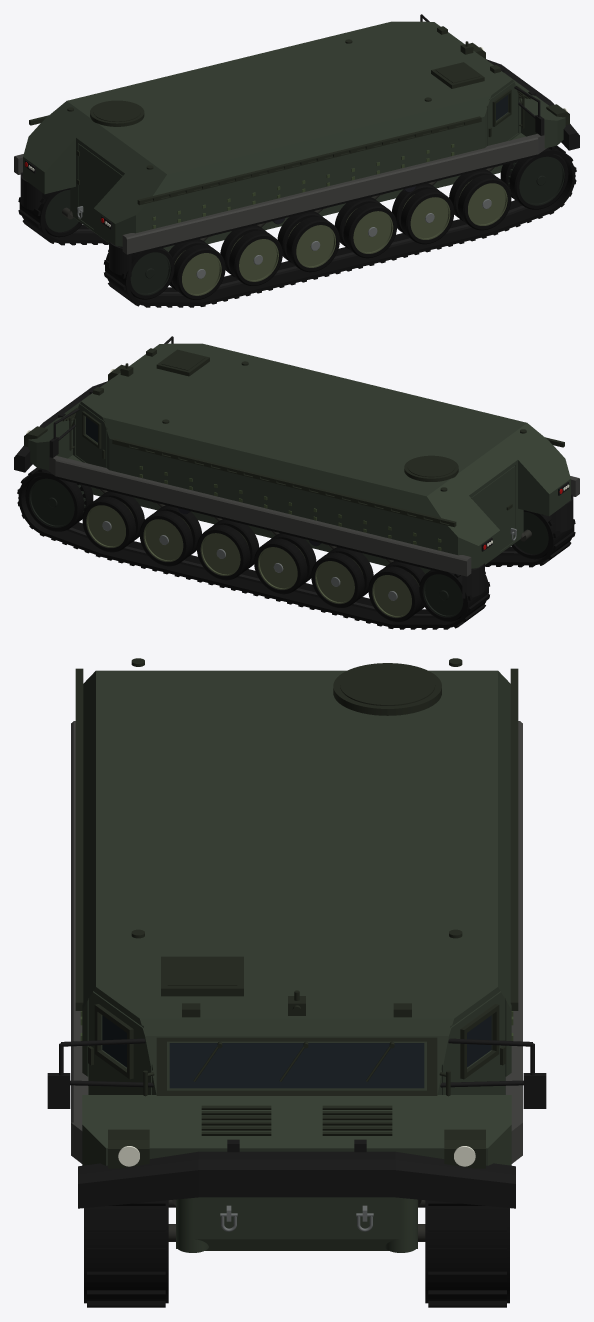
File: trackx.glb
3 views of the same model, one above another, from view 1: azimuth 30°, elevation 25°; view 2: azimuth 150°, elevation 25°; view 3: azimuth 270°, elevation 25° (orthographic). The views are drawn at different scales.
Visible parts, largest first — view 1: hull, tyres_R, guards, rims_R, track_R, fittings, sprocket_R, track_L, flaps, sprocket_L, bumper, track_guide_R (+3 smaller); view 2: hull, tyres_L, guards, rims_L, track_L, fittings, sprocket_L, track_R, flaps, sprocket_R, bumper, track_guide_L (+3 smaller); view 3: hull, fittings, bumper, glass, track_L, track_R, guards, mirrors, light_pods.
Boxes of the visible parts, left/top/right/bottom form: hull: left=23, top=21, right=565, bottom=251; tyres_R: left=129, top=154, right=568, bottom=299; guards: left=14, top=133, right=546, bottom=254; rims_R: left=174, top=180, right=507, bottom=295; track_R: left=104, top=145, right=576, bottom=307; fittings: left=29, top=26, right=531, bottom=213; sprocket_R: left=130, top=156, right=564, bottom=295; track_L: left=18, top=190, right=108, bottom=245; flaps: left=20, top=172, right=131, bottom=276; sprocket_L: left=45, top=189, right=78, bottom=232; bumper: left=486, top=59, right=579, bottom=150; track_guide_R: left=158, top=205, right=527, bottom=295; hull: left=28, top=343, right=570, bottom=573; tyres_L: left=25, top=476, right=464, bottom=621; guards: left=47, top=455, right=579, bottom=576; rims_L: left=86, top=502, right=419, bottom=617; track_L: left=17, top=467, right=489, bottom=629; fittings: left=62, top=348, right=564, bottom=527; sprocket_L: left=29, top=478, right=463, bottom=617; track_R: left=485, top=512, right=575, bottom=567; flaps: left=462, top=494, right=573, bottom=598; sprocket_R: left=515, top=511, right=548, bottom=554; bumper: left=14, top=381, right=107, bottom=472; track_guide_L: left=66, top=527, right=435, bottom=617; hull: left=82, top=670, right=511, bottom=1252; fittings: left=75, top=658, right=518, bottom=1135; bumper: left=78, top=1139, right=515, bottom=1208; glass: left=102, top=1015, right=491, bottom=1088; track_L: left=425, top=1200, right=509, bottom=1307; track_R: left=84, top=1200, right=168, bottom=1307; guards: left=71, top=721, right=522, bottom=1163; mirrors: left=47, top=1038, right=546, bottom=1108; light_pods: left=108, top=1129, right=485, bottom=1168.
Size of the model in its own units: 7.06 by 2.18 by 3.3.
